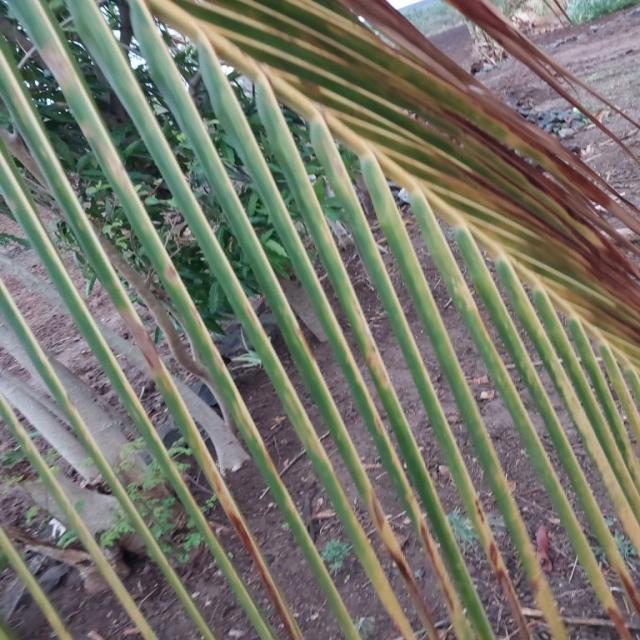gray leaf spot: (150, 0, 640, 362)
